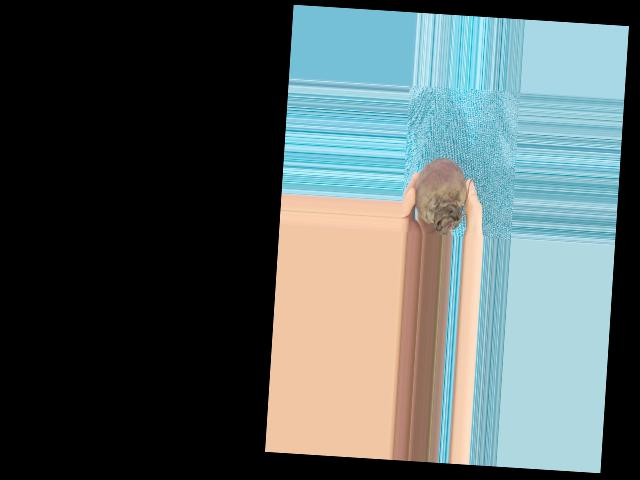beet: (412, 156, 475, 235)
